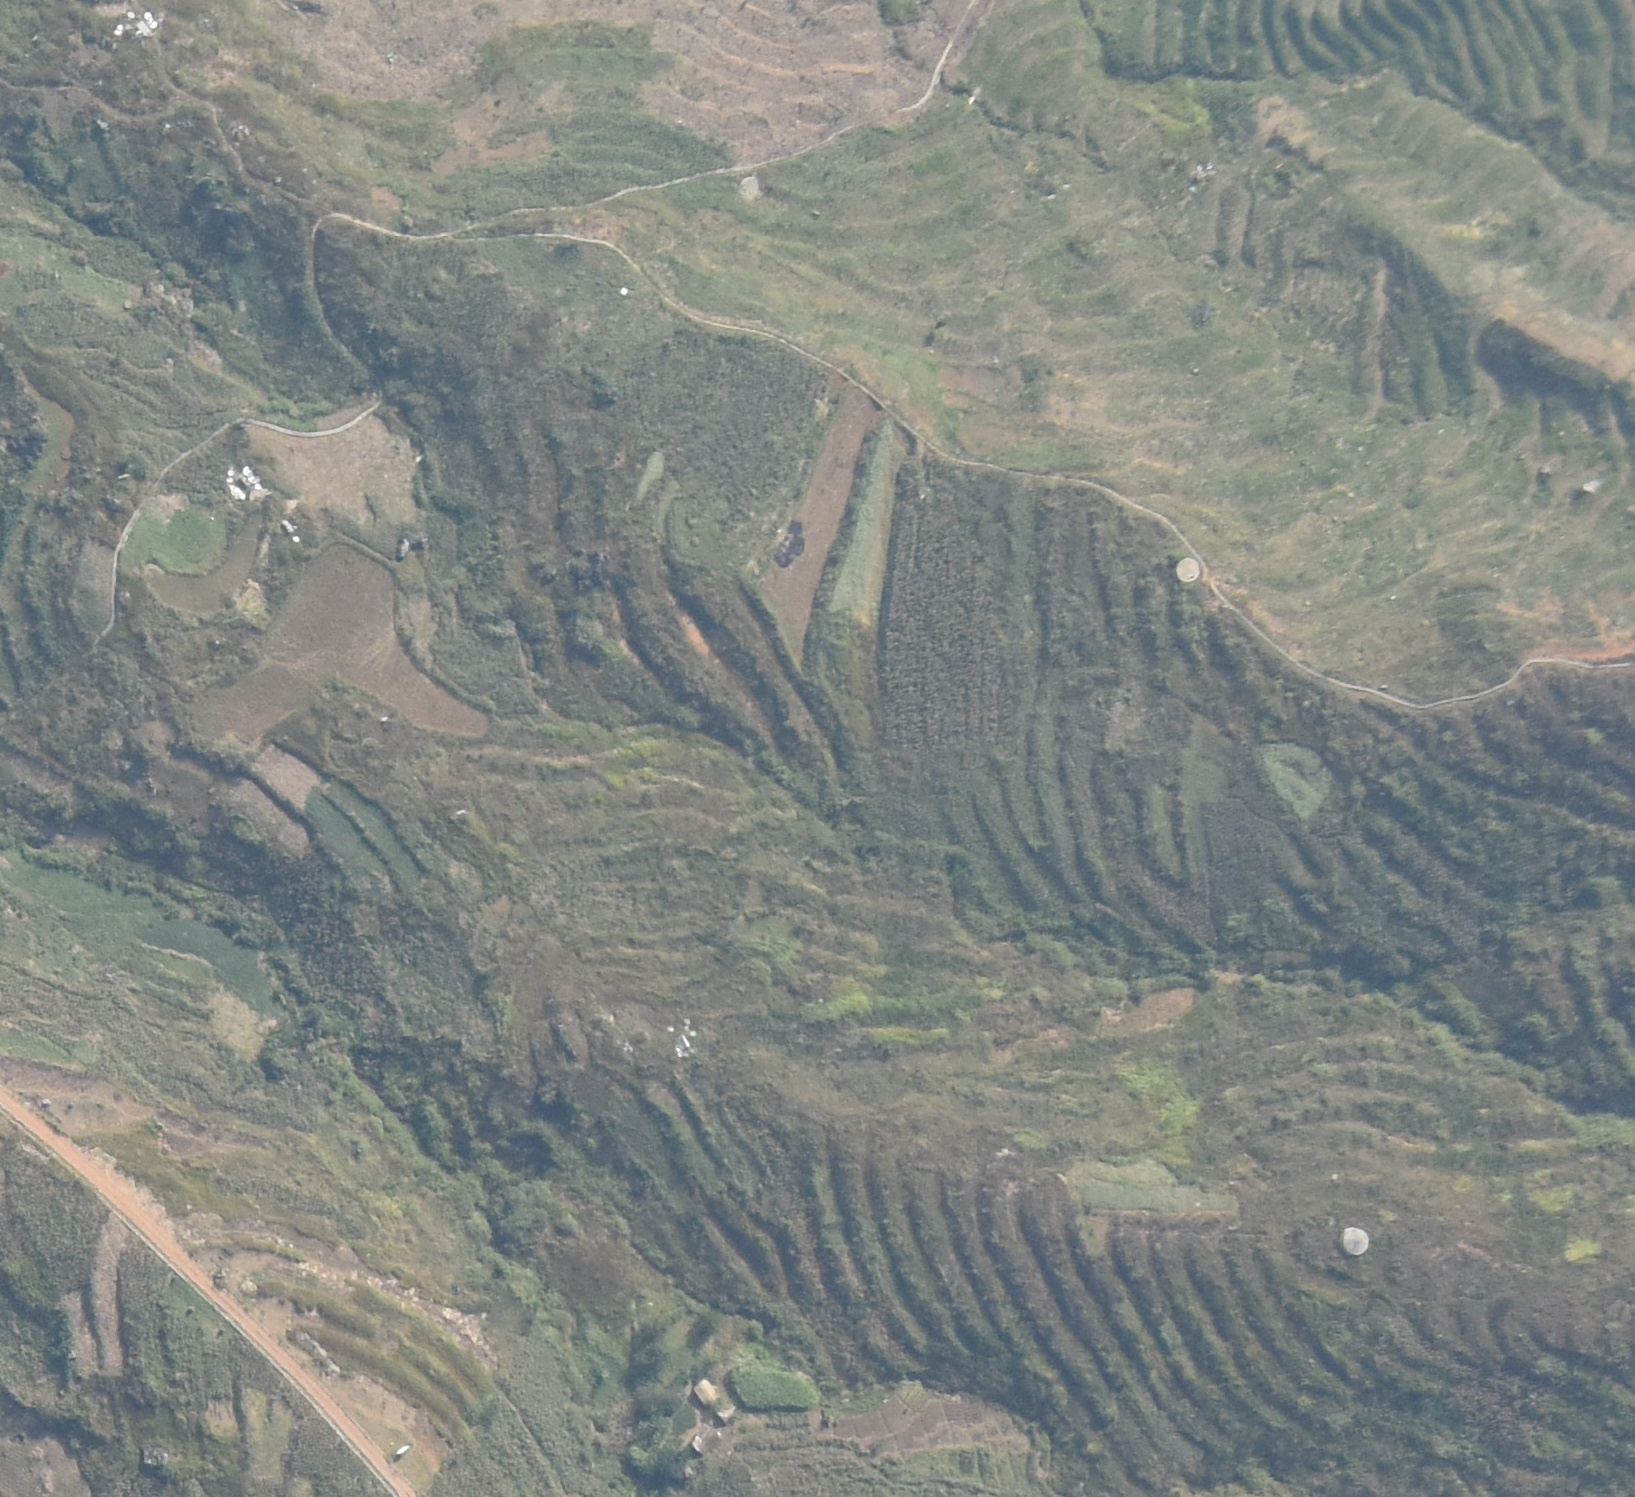building: (694, 1377, 718, 1406)
well: (1339, 1225, 1372, 1256), (1175, 555, 1202, 583), (741, 175, 762, 198)
